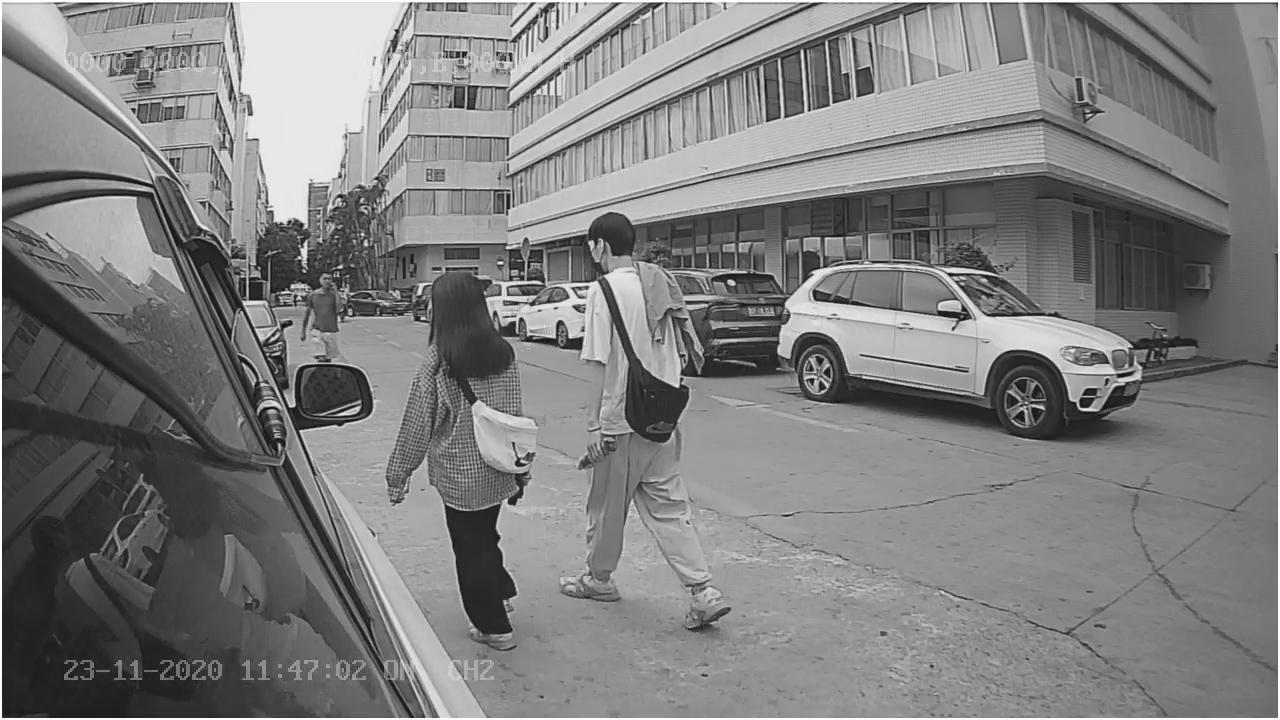person: (559, 195, 729, 629), (394, 271, 523, 646)
